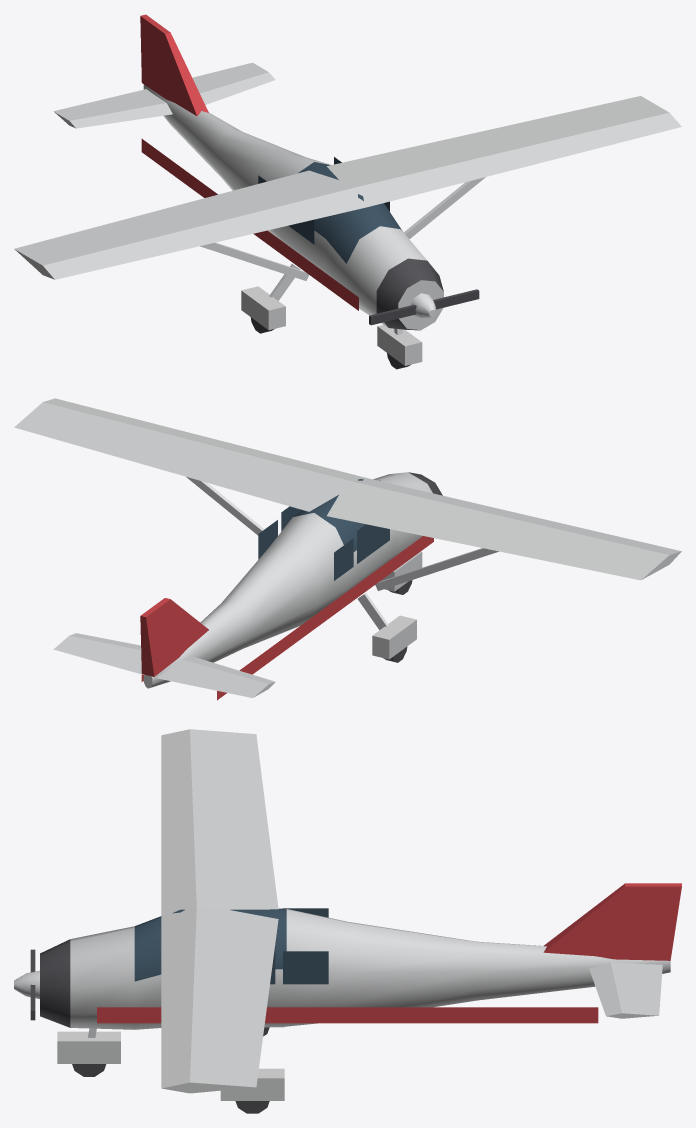
3 views of the same model, one above another, from view 1: azimuth 30°, elevation 25°; view 2: azimuth 150°, elevation 25°; view 3: azimuth 270°, elevation 25° (orthographic). The views are drawn at different scales.
Parts seen in each view (by area): view 1: 302; view 2: 302; view 3: 302.
Part boxes in pixels (x1=…): 302: x1=14, y1=14, x2=681, y2=369; 302: x1=14, y1=398, x2=681, y2=700; 302: x1=14, y1=729, x2=681, y2=1113.
Size of the model in its own units: 11 by 2.74 by 8.79.
